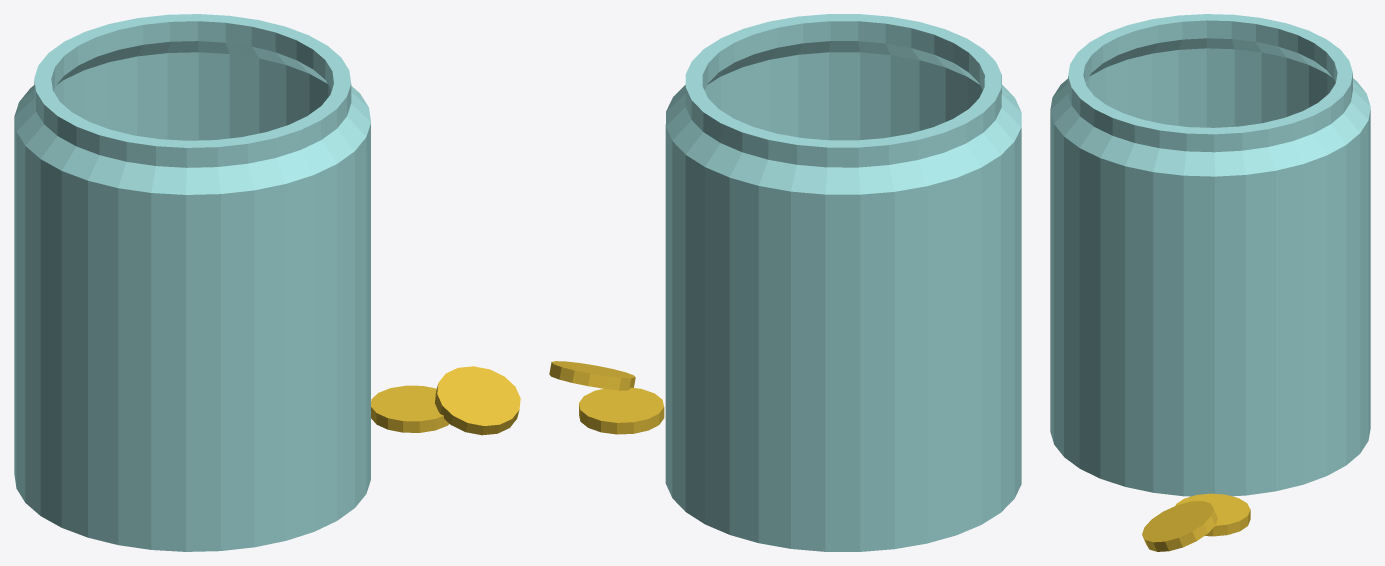
The model's file is banka.fbx.
3 views of the same model, side by side, from view 1: azimuth 30°, elevation 25°; view 2: azimuth 150°, elevation 25°; view 3: azimuth 270°, elevation 25° (orthographic). The views are drawn at different scales.
Visible parts, largest first — view 1: Circle.040; view 2: Circle.040; view 3: Circle.040.
Boxes of the visible parts, x1,y1,x2,y2 form: Circle.040: (14, 14, 520, 551); Circle.040: (549, 14, 1021, 551); Circle.040: (1050, 14, 1370, 551).
Size of the model in its own units: 39.93 by 32.83 by 26.85.
